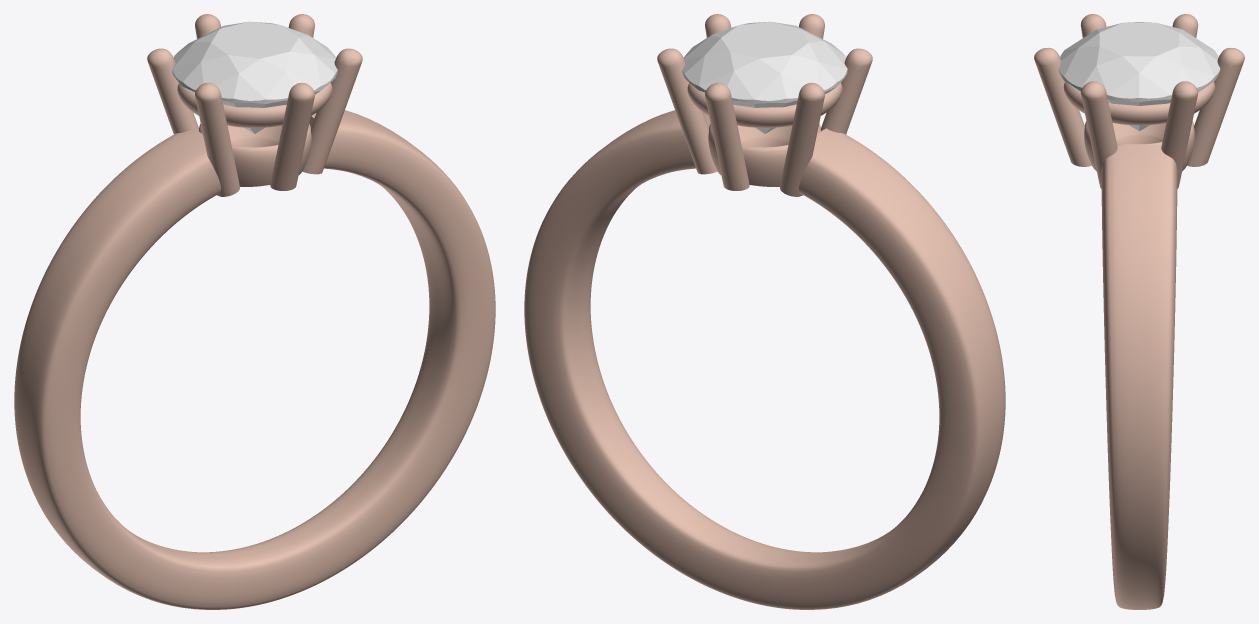
The model's file is diamond-round-rosegold-6prong-straighttaperedband-nosidestones.glb.
3 views of the same model, side by side, from view 1: azimuth 30°, elevation 25°; view 2: azimuth 150°, elevation 25°; view 3: azimuth 270°, elevation 25° (orthographic). The views are drawn at different scales.
Parts seen in each view (by area): view 1: metal, stone; view 2: metal, stone; view 3: metal, stone.
Part boxes in pixels (x1,y1,x2,y2): metal: [14, 14, 495, 609]; stone: [172, 21, 337, 133]; metal: [524, 14, 1005, 609]; stone: [682, 21, 847, 133]; metal: [1034, 14, 1244, 609]; stone: [1058, 22, 1220, 131].
Bounding box in the file's own units: 20.51 × 23.82 × 8.33.
